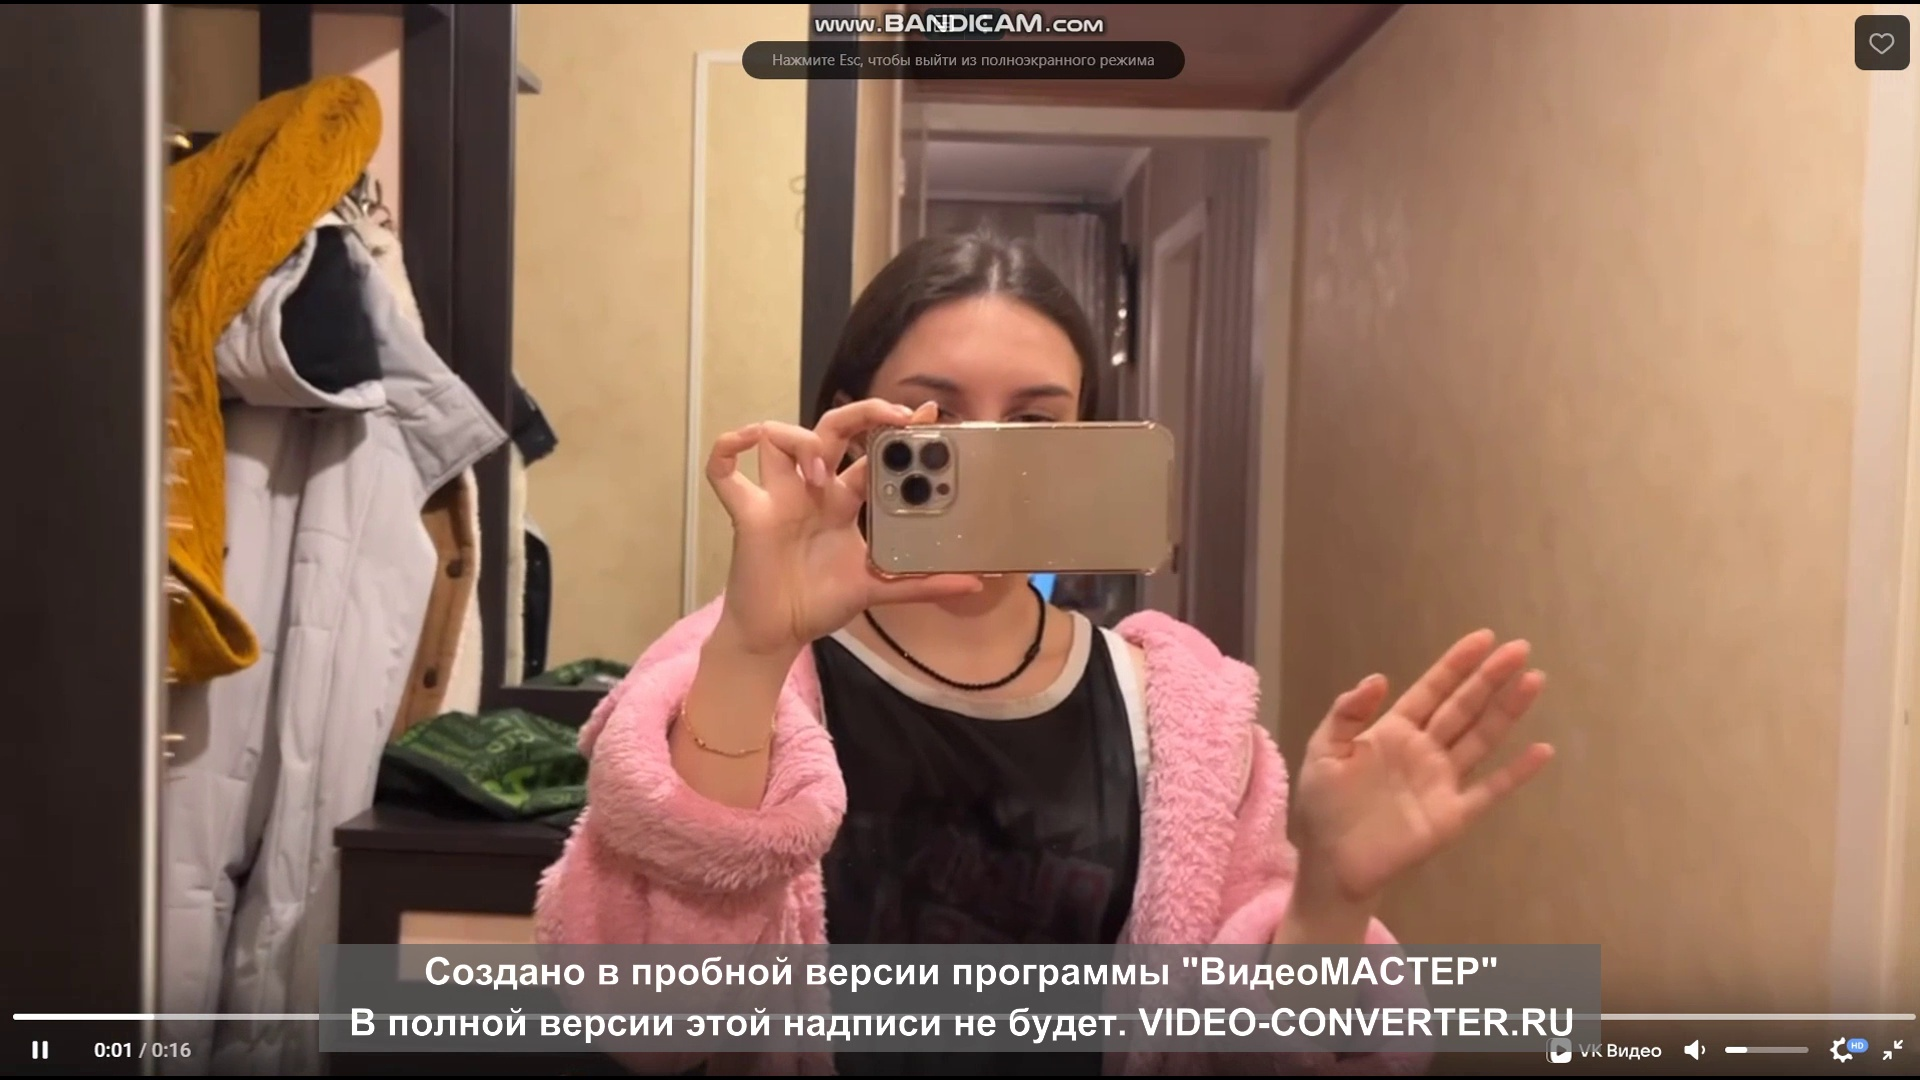Ладонь: (1286, 626, 1556, 905)
